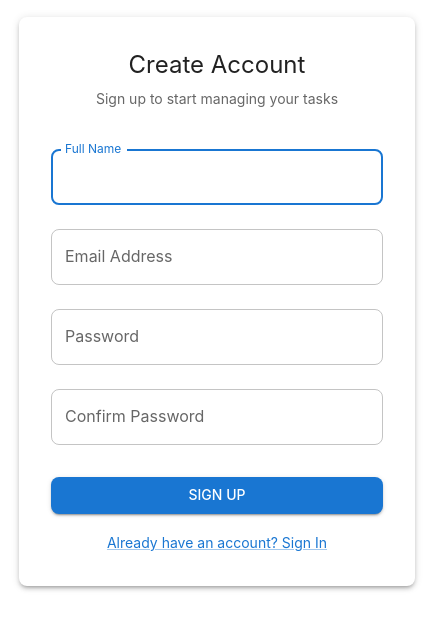
Test case: Authentication › Register › should show error when passwords do not match
The image size is (435, 631).
In the field with id "name": (217, 177) [51, 149, 383, 205], type "Test User"
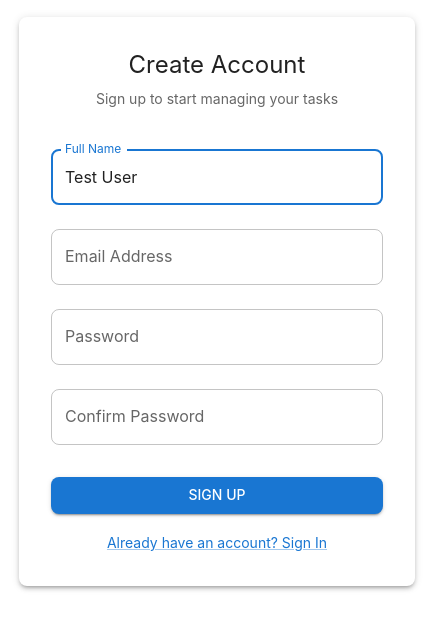
In the field with id "email": (217, 257) [51, 229, 383, 285], type "test@example.com"
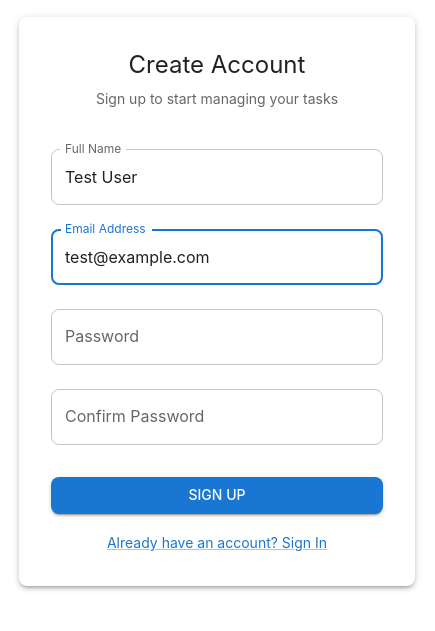
In the password field labelled "Password": (217, 337) [51, 309, 383, 365], type "Password123"
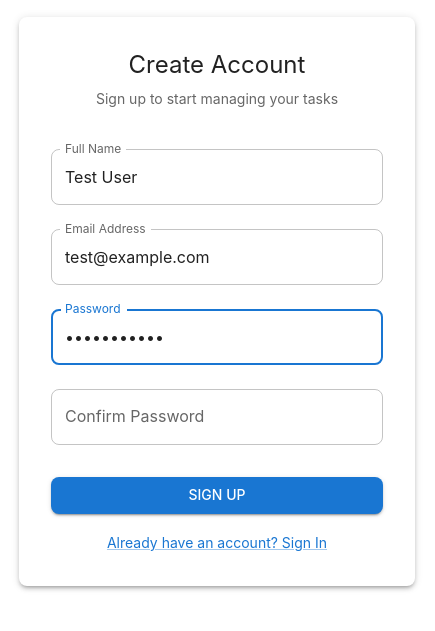
In the password field with id "confirmPassword": (217, 417) [51, 389, 383, 445], type "DifferentPassword"
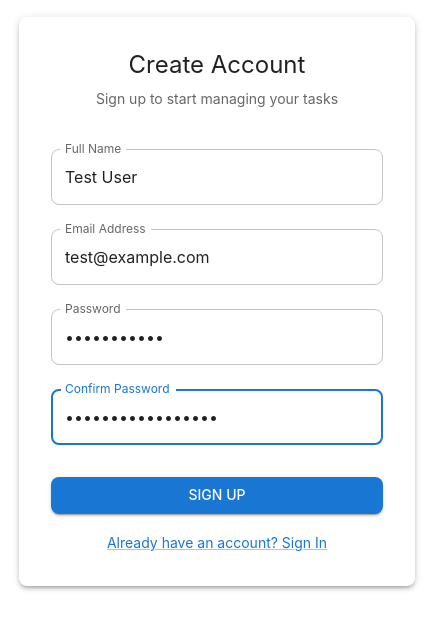
Click the submit button: click(217, 496) [51, 477, 383, 514]
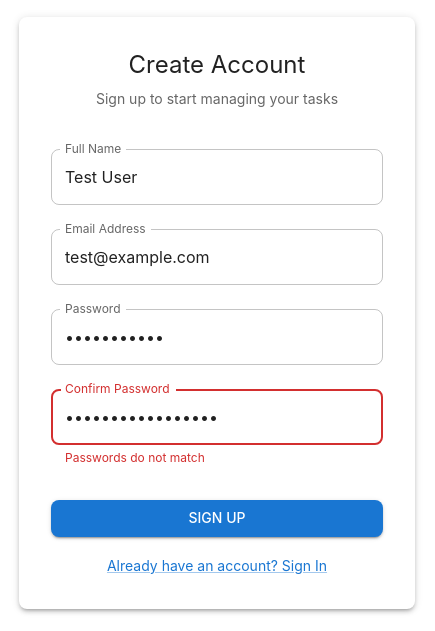
Result: the text "Passwords do not match" is shown at [65, 450, 205, 465]
